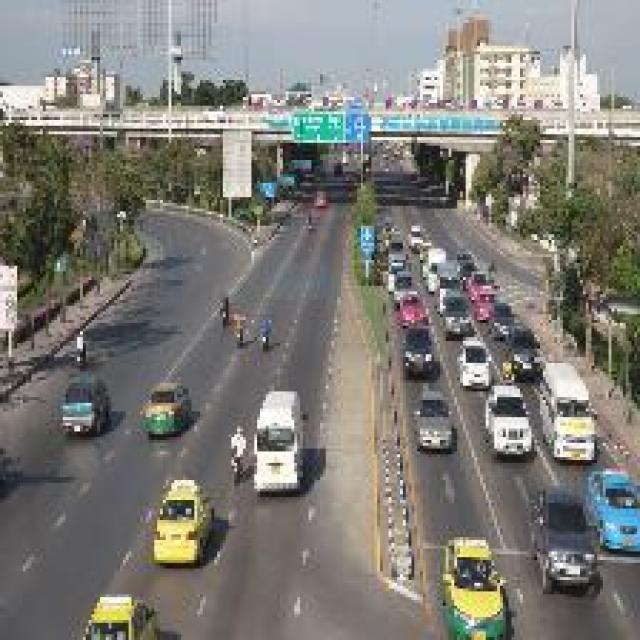other: (438, 526, 512, 623), (153, 456, 210, 566), (81, 580, 162, 633)
